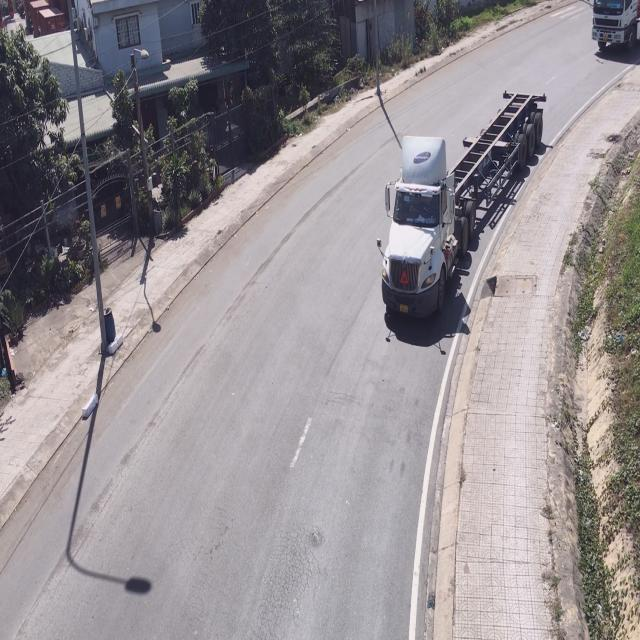truck: (376, 92, 546, 322), (588, 0, 638, 56)
